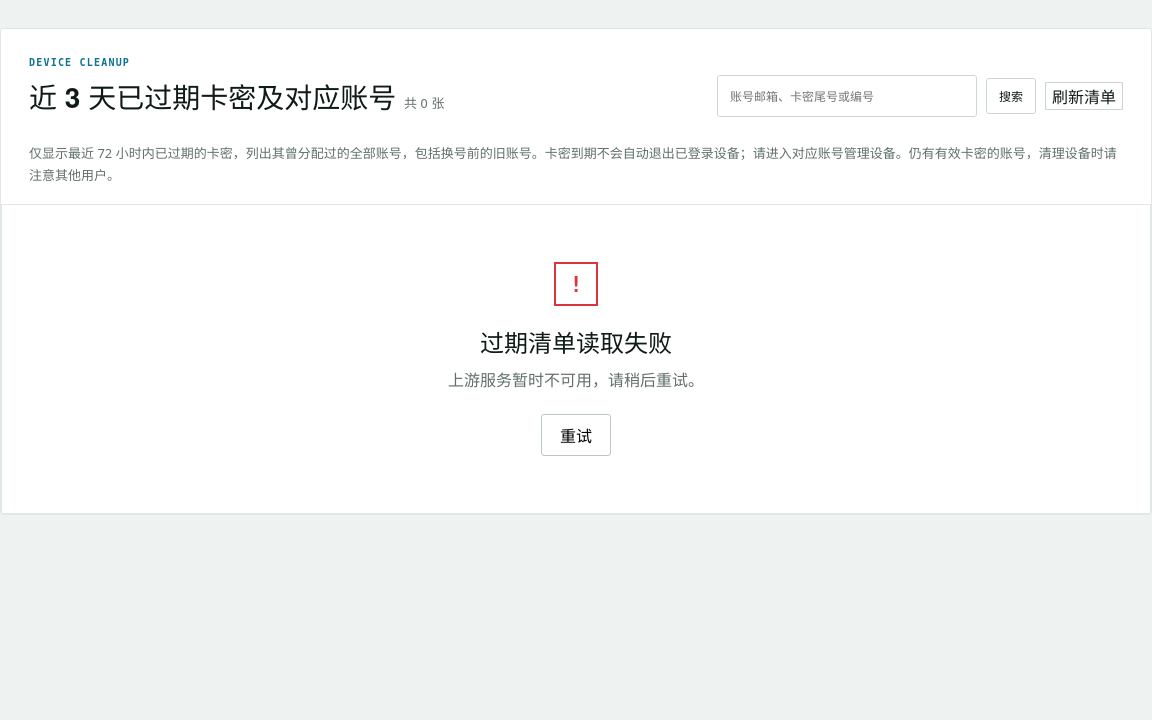
Test: Expired card cleanup panel › retries a failed request and replaces the list after a renewed card disappears
Step 1. Click the button "重试" → (576, 435), box [541,414,611,456]
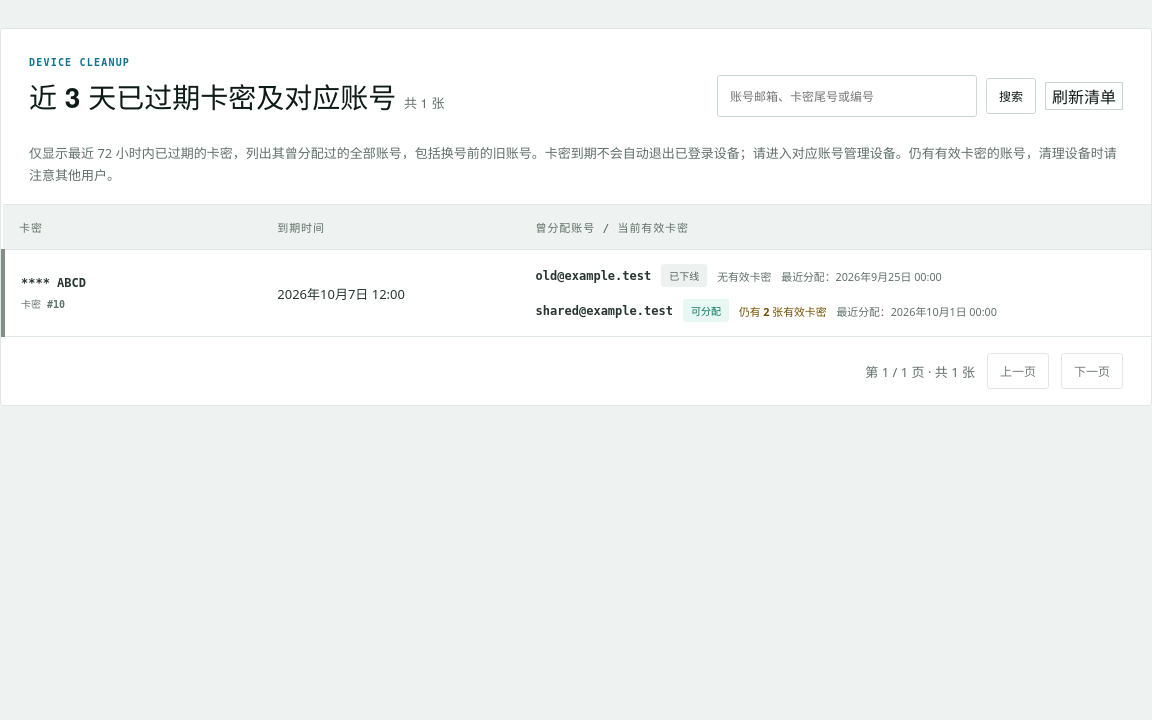
Check: the text "shared@example.test" is shown, box [536,304,673,318]
Step 2. Click the button "刷新清单" → (1084, 96), box [1045,82,1123,110]
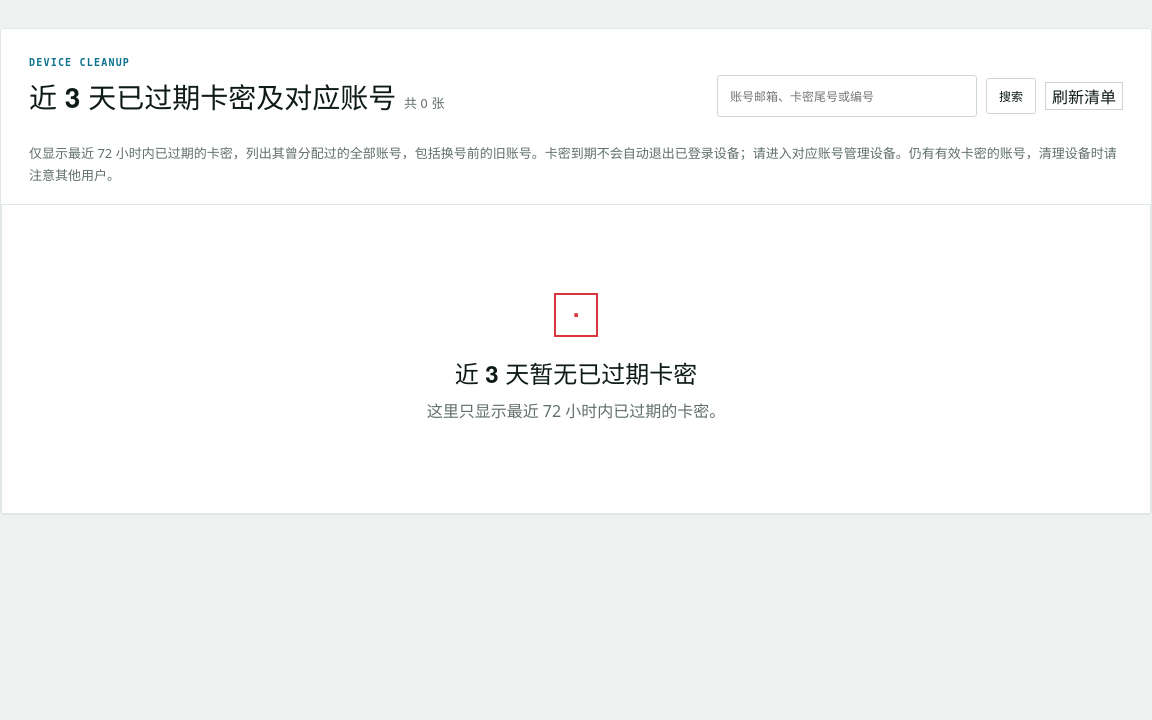
Check: the text "暂无已过期卡密" is shown, box [455,356,697,390]
Check: the text "shared@example.test" is gone
